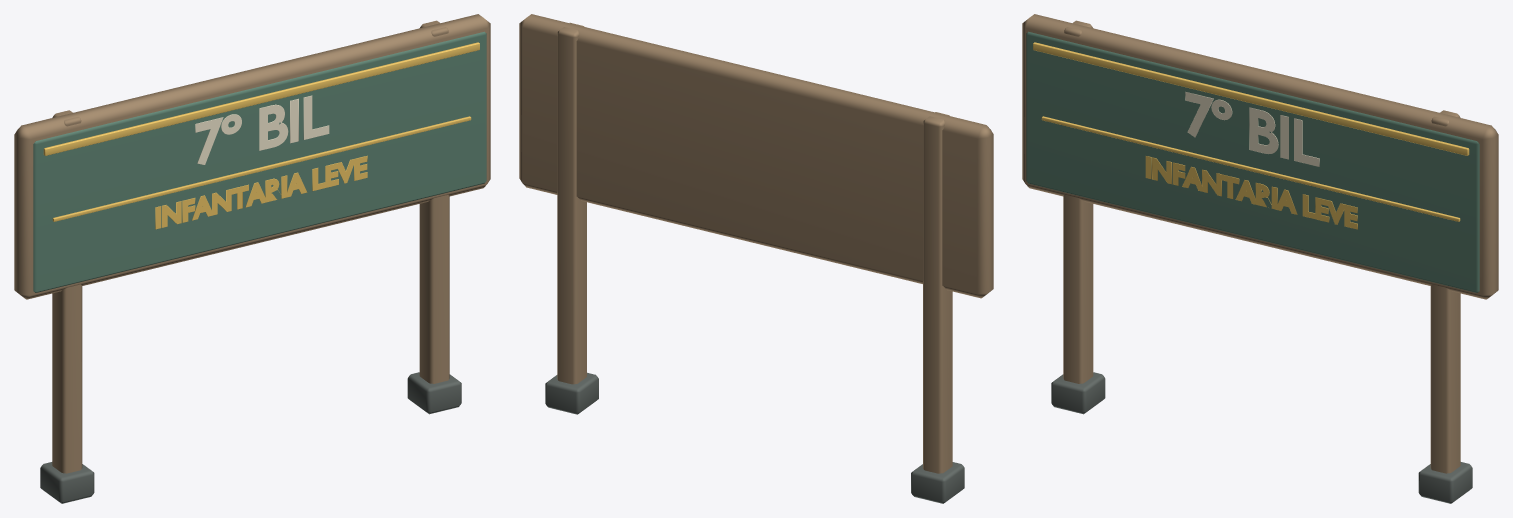
File: placa_identificacao_military.glb
The picture shows the model from 3 angles, left to right: view 1: azimuth 30°, elevation 25°; view 2: azimuth 150°, elevation 25°; view 3: azimuth 330°, elevation 25°; orthographic projection.
Parts seen in each view (by area): view 1: placa_identificacao_military; view 2: placa_identificacao_military; view 3: placa_identificacao_military.
Part boxes in pixels (x1,y1,x2,y2): placa_identificacao_military: [14, 14, 490, 503]; placa_identificacao_military: [519, 14, 993, 503]; placa_identificacao_military: [1022, 14, 1498, 503].
Bounding box in the file's own units: 3.7 × 2.84 × 0.3105.
